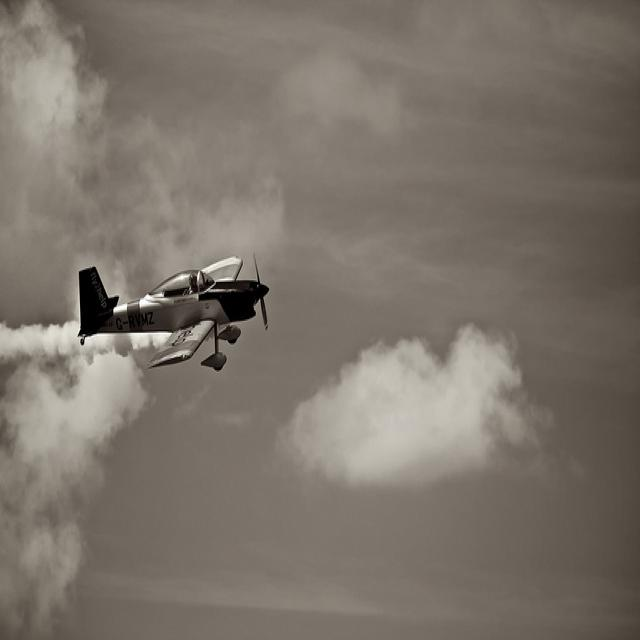airplane: (78, 253, 272, 374)
